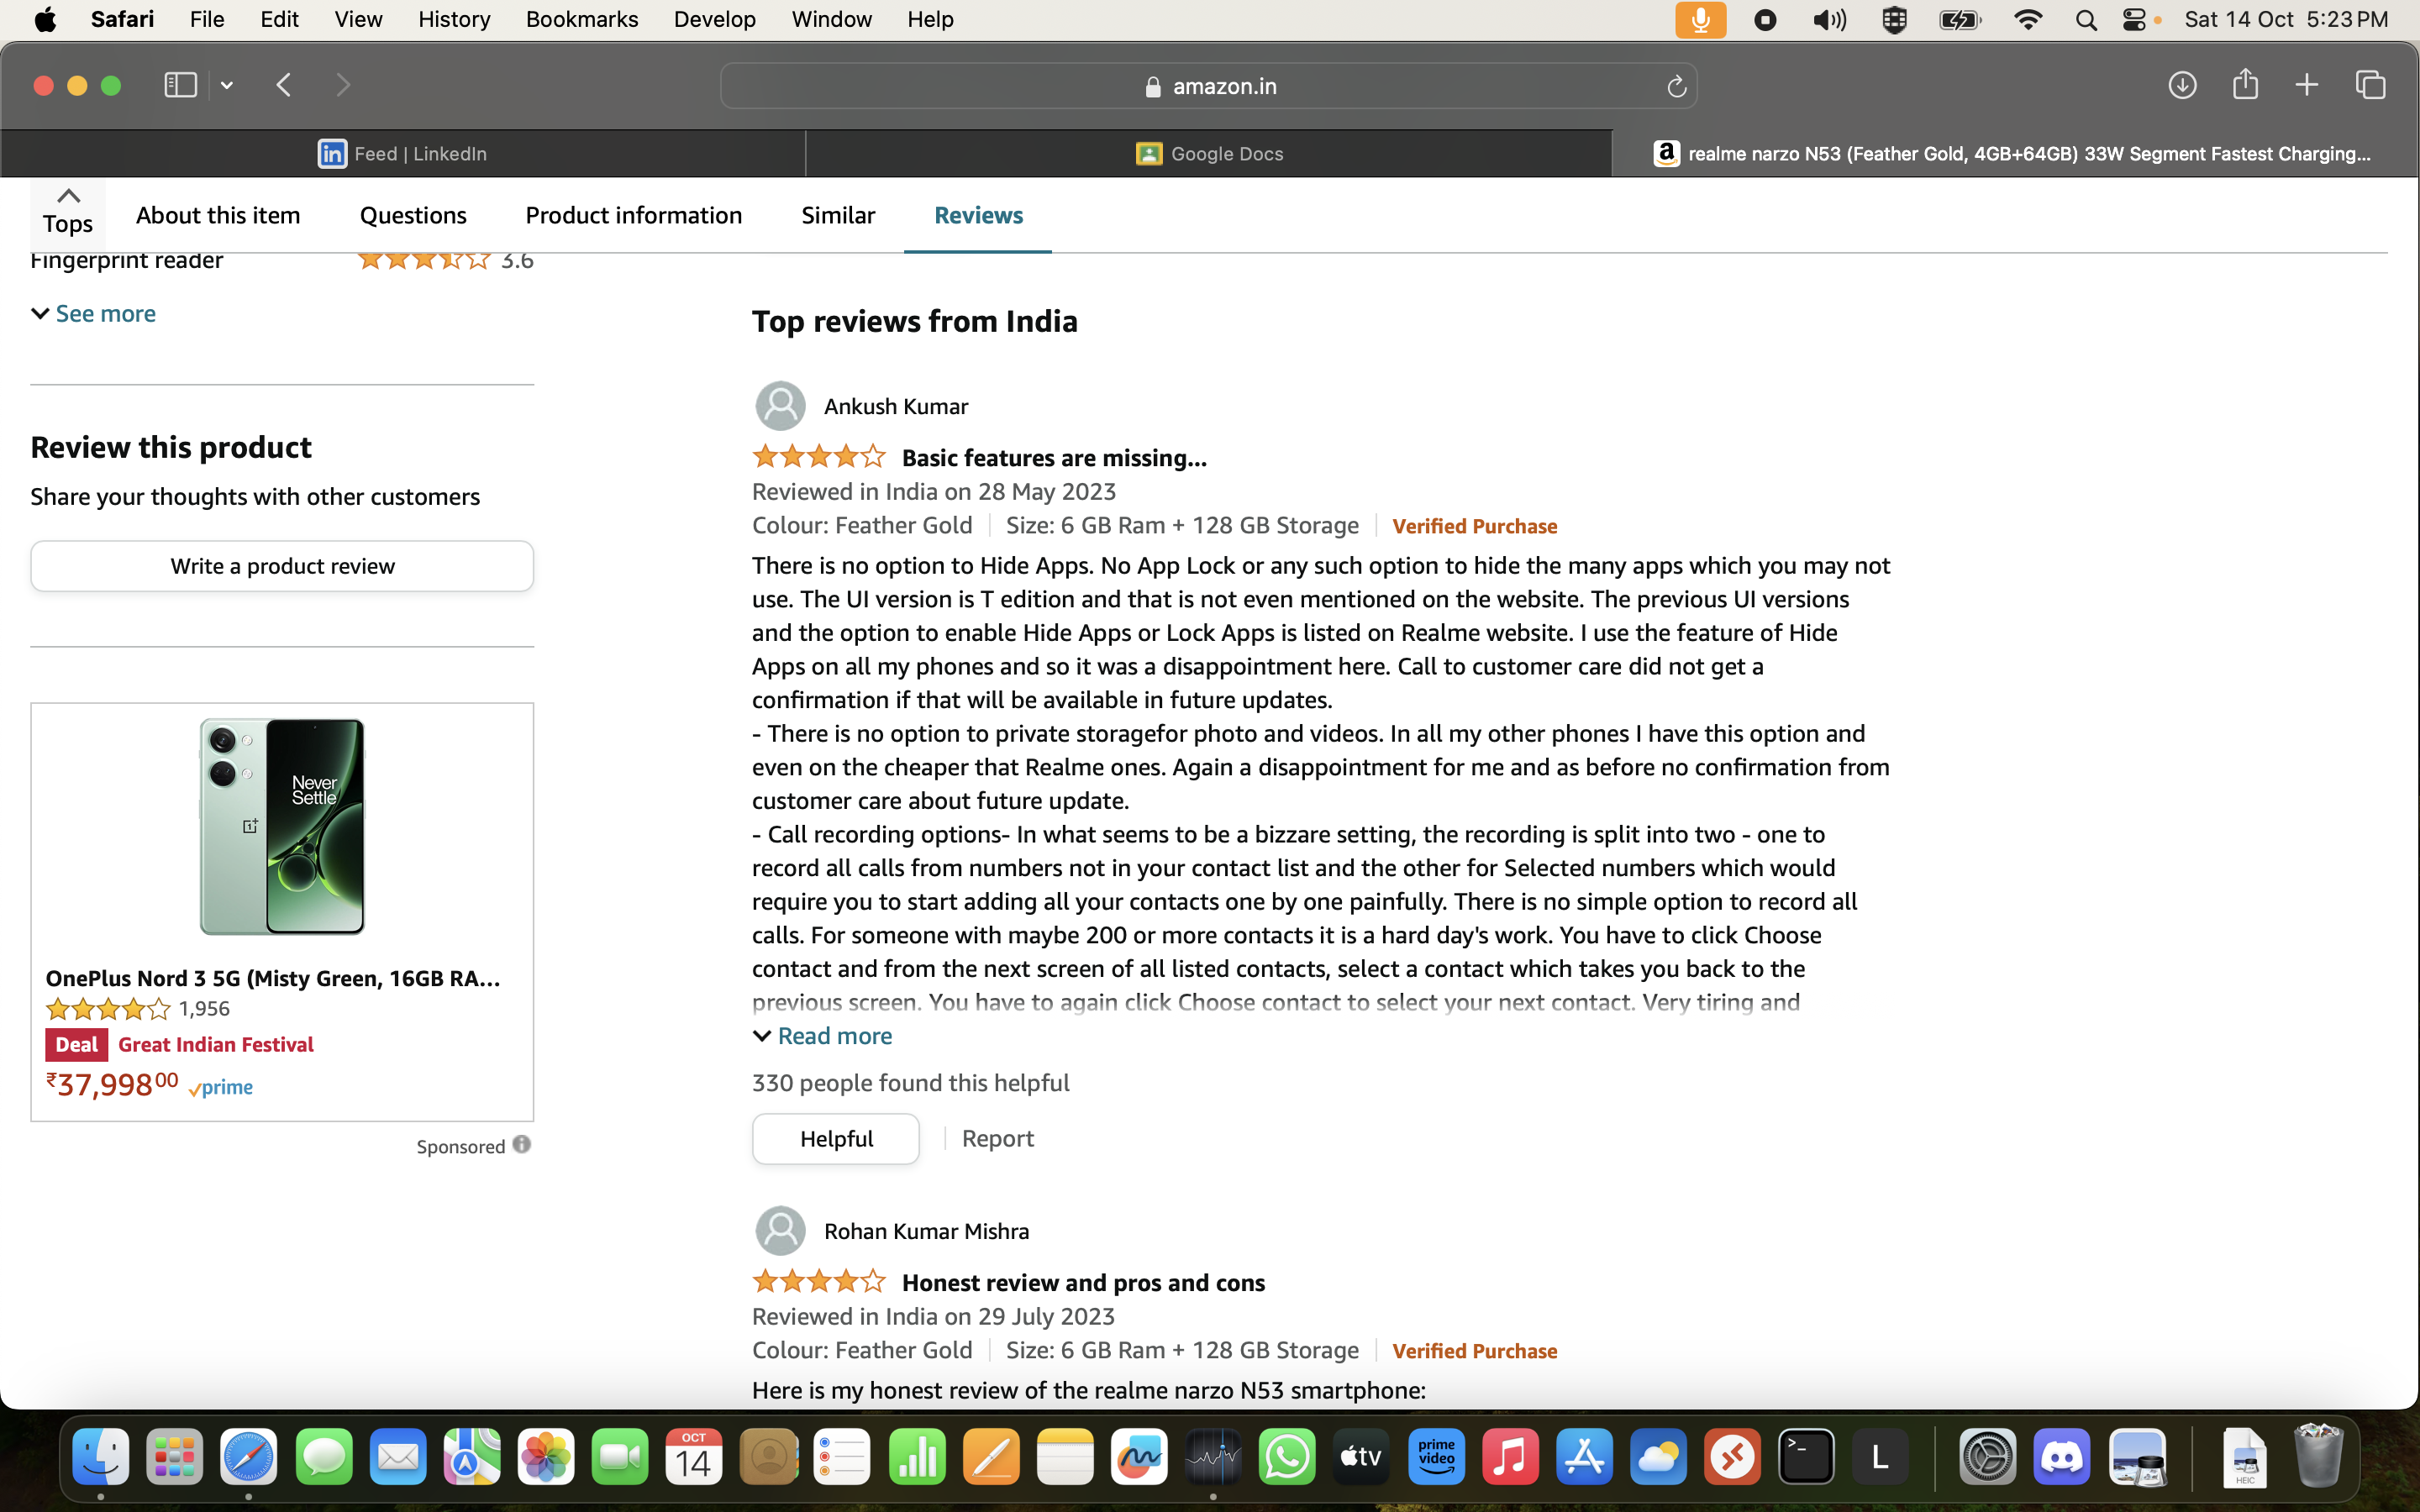Image: (174, 709, 390, 949), (747, 368, 807, 432), (754, 1200, 807, 1261)
Paragraph: (744, 819, 1866, 1026), (740, 552, 1897, 712), (744, 712, 1890, 812), (740, 1299, 1575, 1364), (740, 507, 1598, 542), (744, 294, 1101, 357), (21, 477, 493, 521), (148, 528, 422, 599), (35, 956, 510, 996), (14, 422, 329, 467), (899, 442, 1225, 474), (730, 477, 1143, 500), (885, 1275, 1282, 1296), (45, 1063, 265, 1097), (817, 383, 981, 422), (822, 1218, 1045, 1244), (113, 1031, 328, 1057), (10, 298, 167, 333), (186, 1002, 244, 1021), (59, 1038, 106, 1059)
